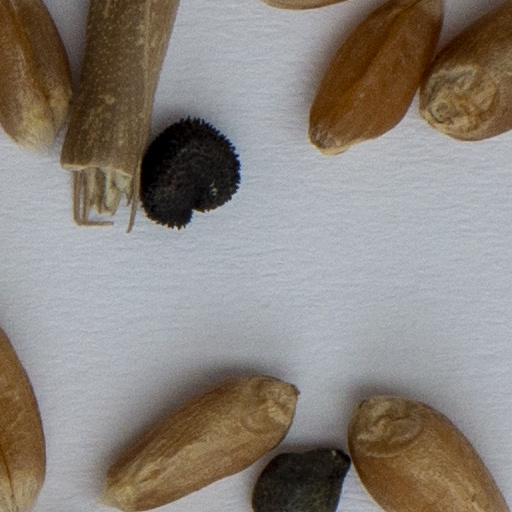Peel-poly: (60, 0, 178, 223)
